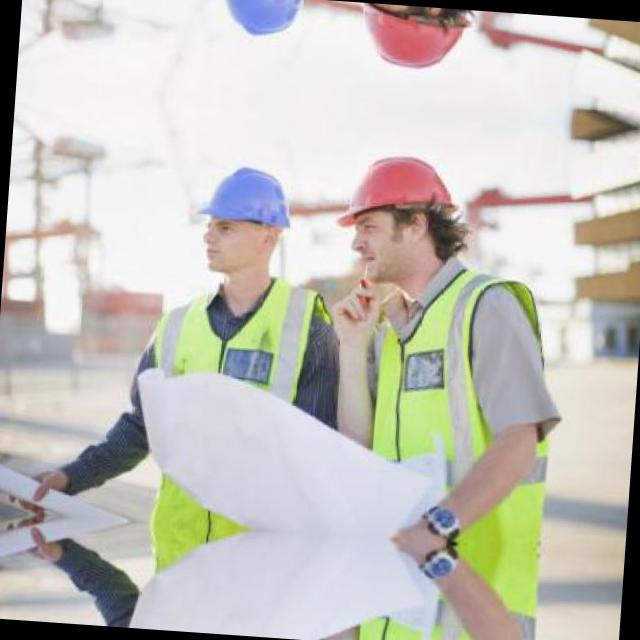helmet: (331, 134, 472, 292), (180, 148, 310, 296), (344, 1, 482, 90), (195, 0, 322, 55)
